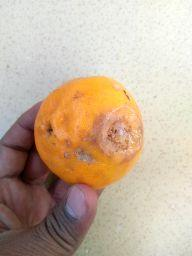Ripe: (33, 77, 143, 187)
